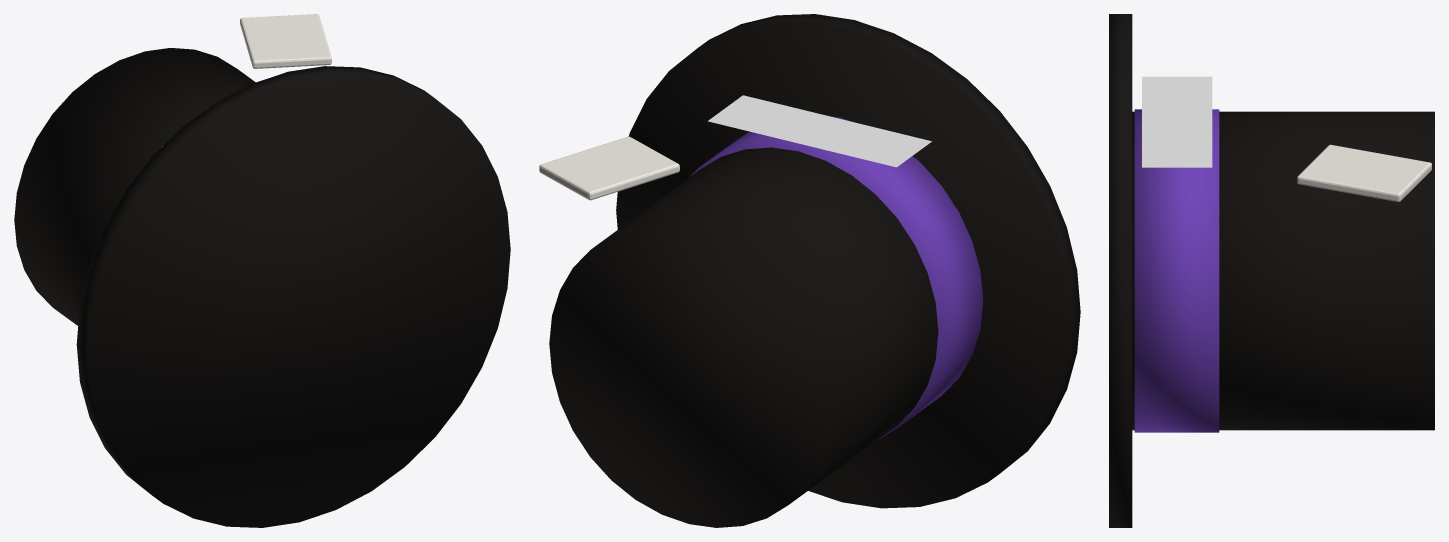
File: kc_cartola.glb
The picture shows the model from 3 angles, left to right: view 1: azimuth 30°, elevation 25°; view 2: azimuth 150°, elevation 25°; view 3: azimuth 270°, elevation 25°; orthographic projection. The views are drawn at different scales.
Visible parts, largest first — view 1: Cylinder.001, Cylinder, Cube; view 2: Cylinder, Cylinder.001, Cylinder.002, screen, Cube; view 3: Cylinder, Cylinder.002, Cylinder.001, screen, Cube.
Boxes of the visible parts, left/top/right/bottom form: Cylinder.001: left=76, top=66, right=510, bottom=527; Cylinder: left=14, top=48, right=255, bottom=325; Cube: left=240, top=14, right=331, bottom=68; Cylinder: left=549, top=147, right=938, bottom=527; Cylinder.001: left=616, top=14, right=1080, bottom=508; Cylinder.002: left=689, top=116, right=983, bottom=440; screen: left=708, top=95, right=931, bottom=167; Cube: left=539, top=136, right=679, bottom=200; Cylinder: left=1132, top=111, right=1434, bottom=430; Cylinder.002: left=1134, top=109, right=1219, bottom=432; Cylinder.001: left=1109, top=14, right=1132, bottom=527; screen: left=1142, top=76, right=1212, bottom=167; Cube: left=1297, top=144, right=1431, bottom=201.
Bounding box in the file's own units: 1.1 × 1.1 × 0.695.
